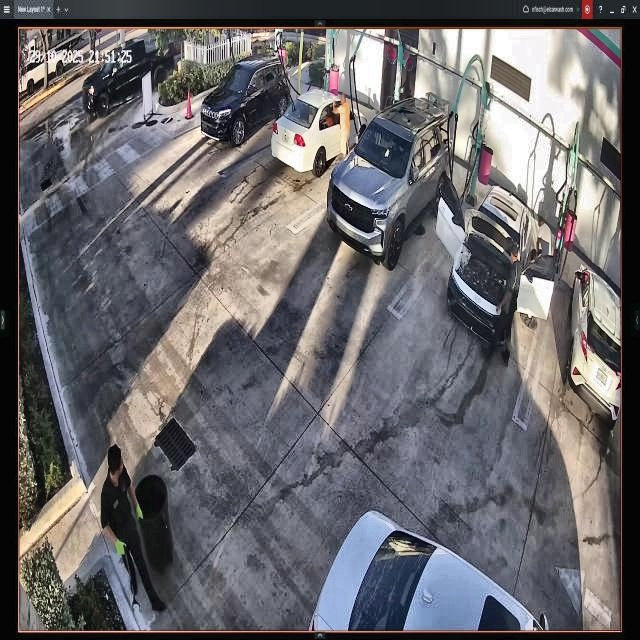Car: (329, 98, 451, 268), (438, 170, 555, 343), (201, 54, 291, 147), (271, 90, 368, 172)
